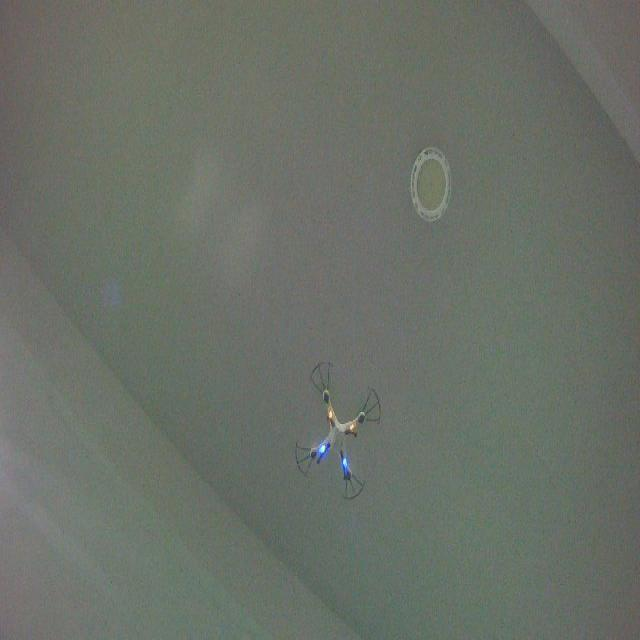drone: (292, 357, 383, 504)
